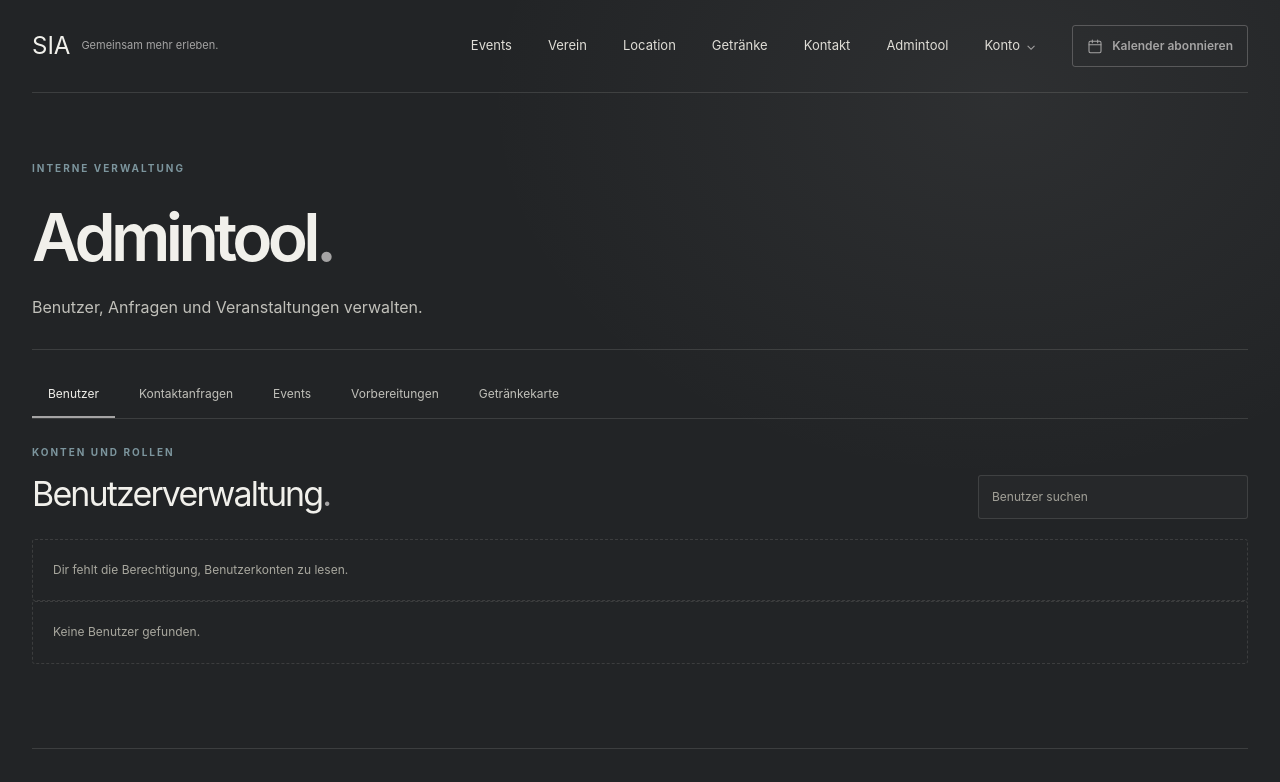
Test: events page › manages the drink menu inside the Admin tool
Click the tab "Getränkekarte": (519, 395) [463,372,575,418]
(page scrolled)
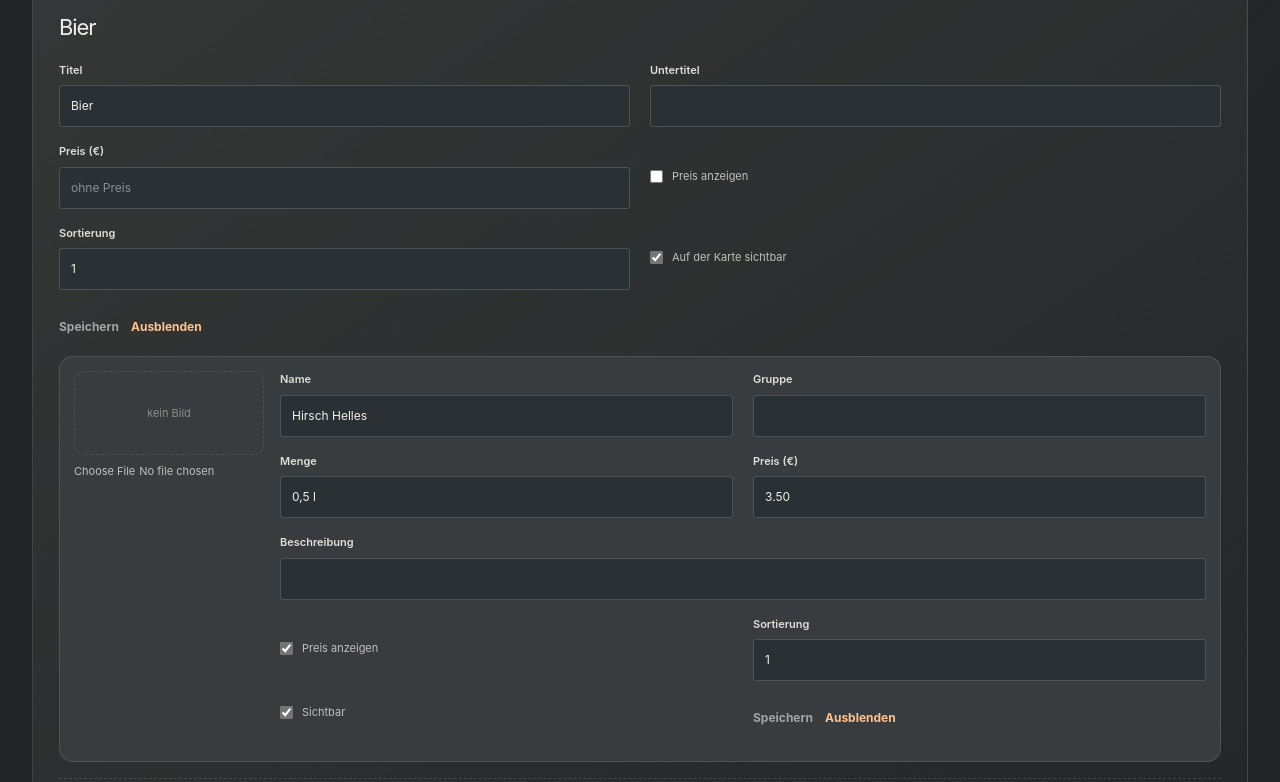
Check: the field showing "Bier" is shown, box [59,85,630,127]
Check: the field showing "Hirsch Helles" is shown, box [280,395,733,437]
